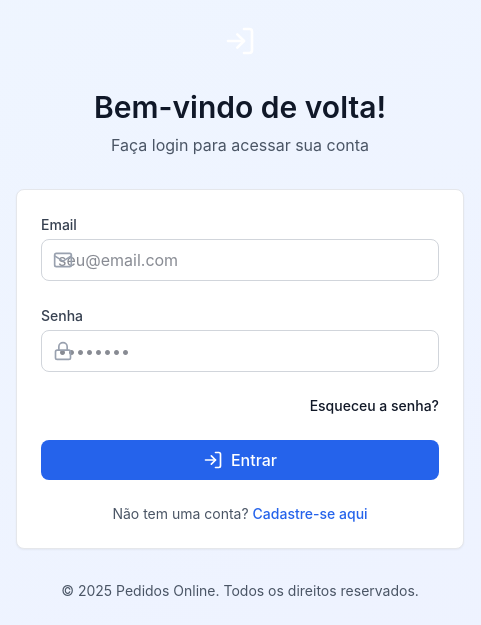
Test case: Login Component › Validação de formulário › deve mostrar erro para senha vazia
The image size is (481, 625).
In the field labelled "Email": (240, 260) top-left (41, 239), bottom-right (439, 281), type "test@example.com"
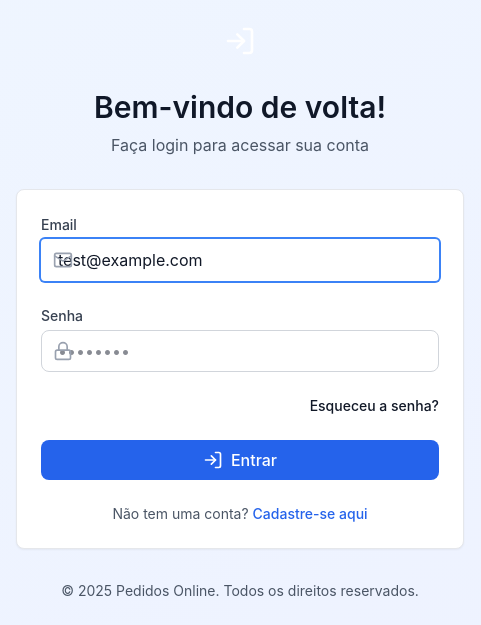
Click the button "Entrar": (240, 460) top-left (41, 440), bottom-right (439, 480)
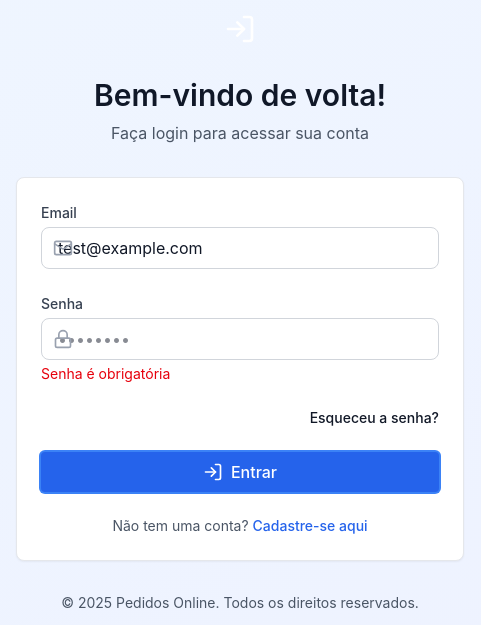
Expected: the text "Senha é obrigatória" is shown, top-left (41, 365), bottom-right (170, 382)
